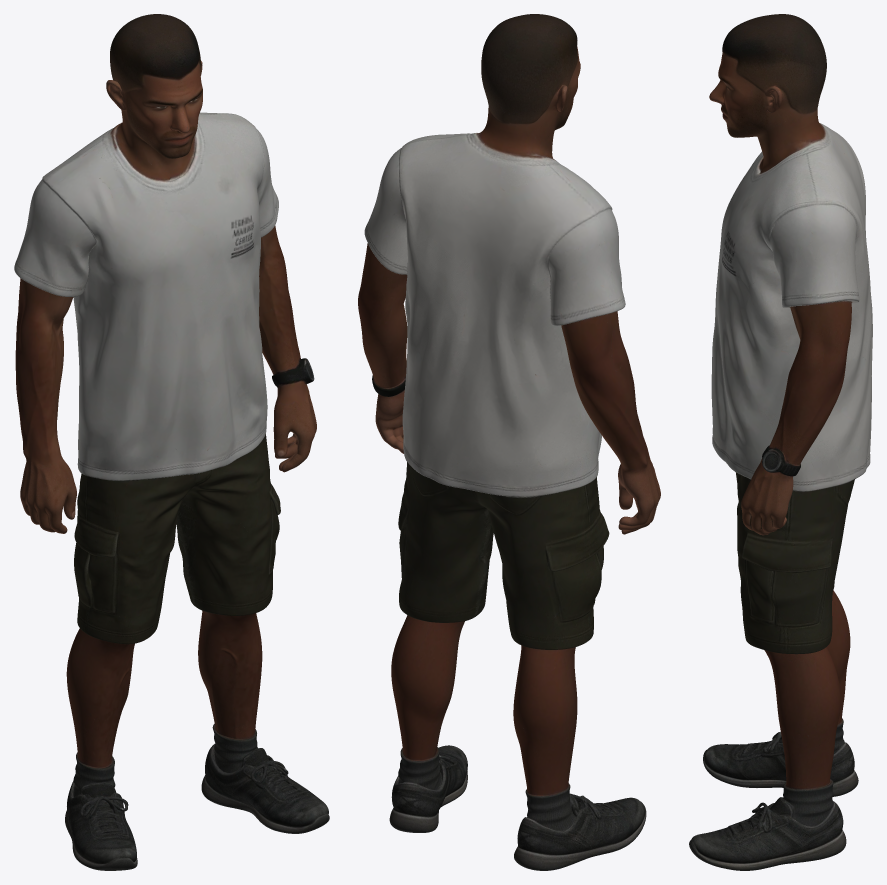
3 views of the same model, side by side, from view 1: azimuth 30°, elevation 25°; view 2: azimuth 150°, elevation 25°; view 3: azimuth 270°, elevation 25° (orthographic). The views are drawn at different scales.
Size of the model in its own units: 0.6949 by 1.9 by 0.401.
1 material, 1 textured.
